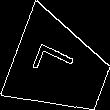L_SE: (34, 44, 85, 92)
